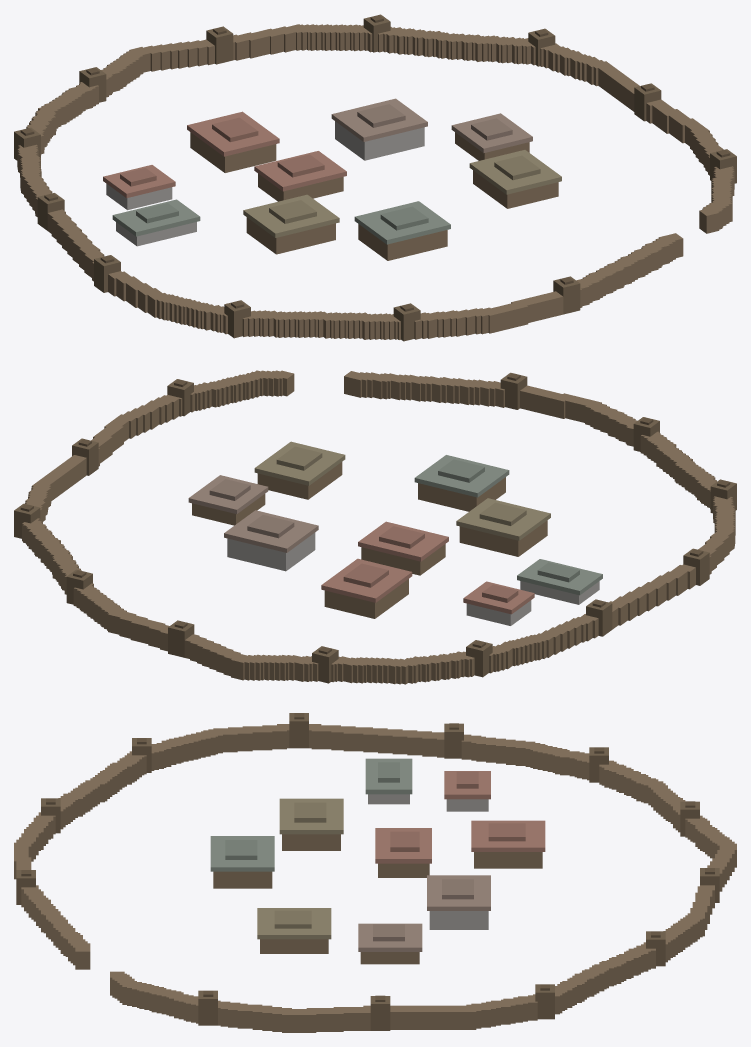
File: ciudad_asentamiento_cultistas_poi_1631_406_01.glb
3 renders of one model, top to bottom at view 1: azimuth 30°, elevation 25°; view 2: azimuth 150°, elevation 25°; view 3: azimuth 270°, elevation 25°, orthographic.
Visible parts, largest first — view 1: ciudad_asentamiento_cultistas_poi_1631_406; view 2: ciudad_asentamiento_cultistas_poi_1631_406; view 3: ciudad_asentamiento_cultistas_poi_1631_406.
Boxes of the visible parts, left/top/right/bottom form: ciudad_asentamiento_cultistas_poi_1631_406: left=14, top=14, right=736, bottom=341; ciudad_asentamiento_cultistas_poi_1631_406: left=14, top=370, right=736, bottom=684; ciudad_asentamiento_cultistas_poi_1631_406: left=14, top=713, right=736, bottom=1032.
Bounding box in the file's own units: 70.5 × 3.25 × 73.5.
